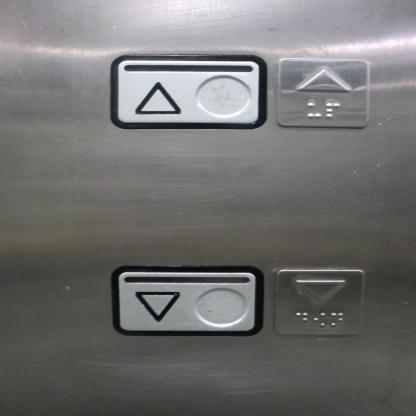down: (107, 260, 267, 338), (269, 262, 375, 344)
up: (106, 50, 268, 134), (271, 52, 376, 134)
